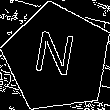N_S: (33, 30, 82, 86)
